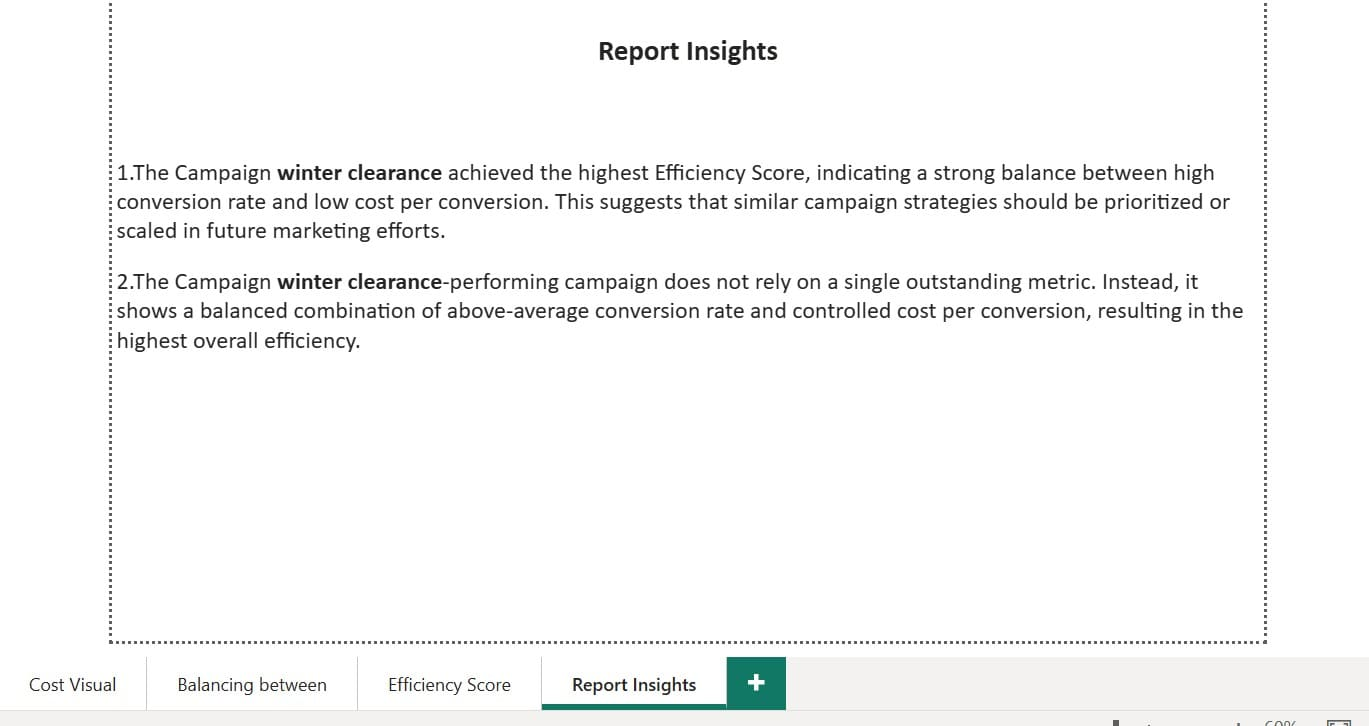

This screenshot's page, from the dashboard's own definition file:
{"tool":"powerbi","page":{"name":"Report Insights","canvas":[1280,720],"ordinal":3},"visuals":[{"type":"textbox","box":[0,176,1280,296],"z":0},{"type":"textbox","box":[490,38,300,64],"z":1000}]}

Visuals, with their boxes on the page's 1280x720 design canvas (x1, y1, x2, y2). These are canvas units, not pixel positions in the 1369x726 screenshot, which may show the page scaled, cropped or inside an application window:
textbox: select_region(0, 176, 1280, 472)
textbox: select_region(490, 38, 790, 102)
